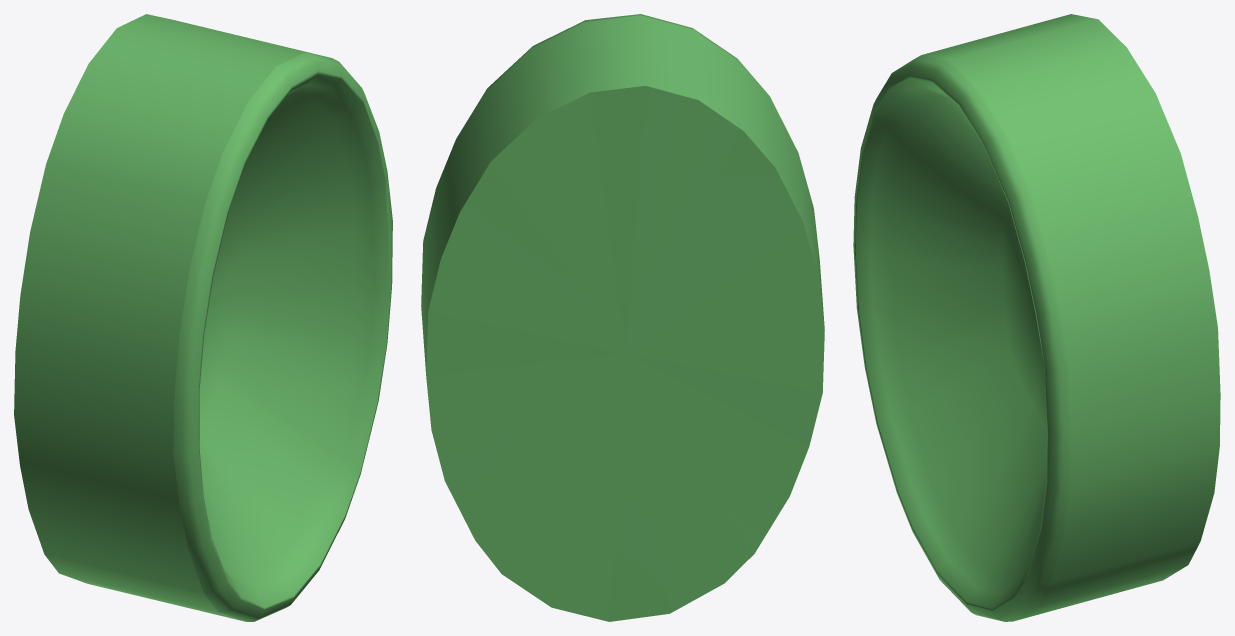
File: TR2_8shapes_Oval_Classic_Metal.001 3.glb
3 views of the same model, side by side, from view 1: azimuth 30°, elevation 25°; view 2: azimuth 150°, elevation 25°; view 3: azimuth 270°, elevation 25° (orthographic). The views are drawn at different scales.
Parts seen in each view (by area): view 1: TR2_8shapes_Oval_Classic_Metal.001; view 2: TR2_8shapes_Oval_Classic_Metal.001; view 3: TR2_8shapes_Oval_Classic_Metal.001.
Boxes of the visible parts, x1,y1,x2,y2 form: TR2_8shapes_Oval_Classic_Metal.001: [14, 14, 392, 621]; TR2_8shapes_Oval_Classic_Metal.001: [421, 14, 824, 621]; TR2_8shapes_Oval_Classic_Metal.001: [853, 14, 1220, 621].
Bounding box in the file's own units: 0.5182 × 0.6943 × 0.4227.
